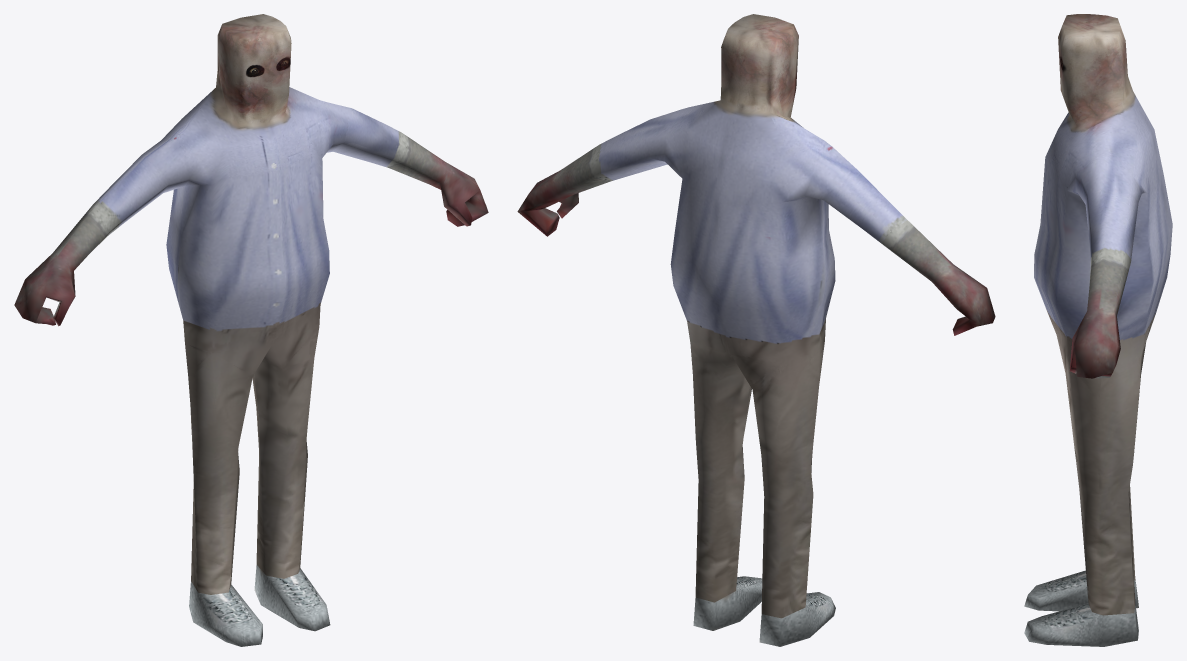
Rendered from killer.fbx.
The picture shows the model from 3 angles, left to right: view 1: azimuth 30°, elevation 25°; view 2: azimuth 150°, elevation 25°; view 3: azimuth 270°, elevation 25°; orthographic projection.
Visible parts, largest first — view 1: Killer.001; view 2: Killer.001; view 3: Killer.001.
Boxes of the visible parts, bbox=[...] form: Killer.001: bbox=[14, 14, 488, 646]; Killer.001: bbox=[517, 14, 995, 646]; Killer.001: bbox=[1024, 14, 1172, 646].
Size of the model in its own units: 209 by 253 by 57.3.
